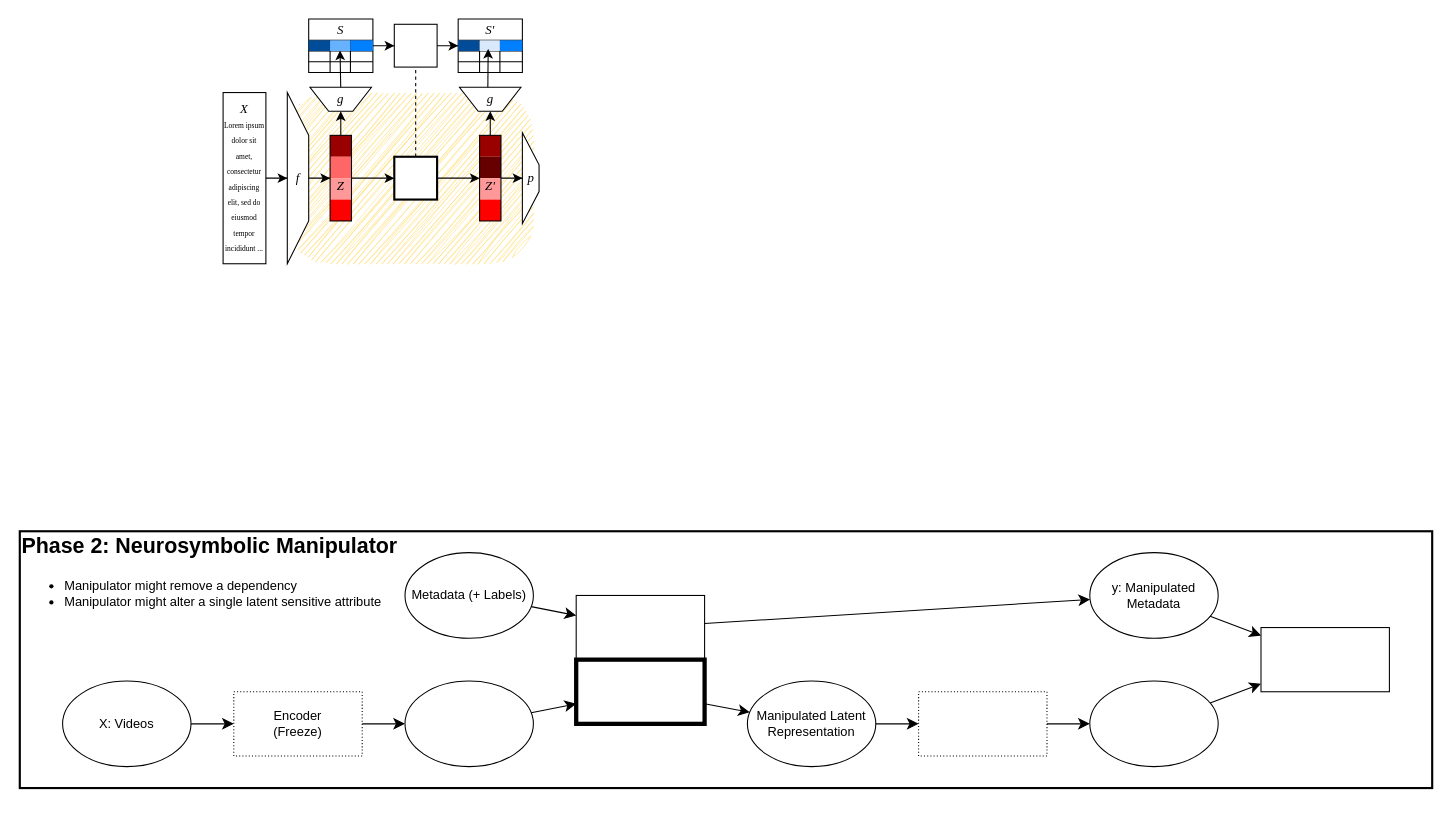
The diagram is 1451 pixels wide and 825 high, and some of its shapes have lost their labels. The shapes that lost their labels are listed below. From the top down, each one's centre as x and y in pixels, then its label:
(x=415, y=45): h S
(x=415, y=177): h Z
(x=640, y=627): Symbolic Manipulator
(x=1324, y=659): Loss
(x=640, y=691): Neural Manipulator
(x=468, y=723): Latent Representation
(x=982, y=723): Semantic Decoder (Freeze)
(x=1153, y=723): ŷ: Decoded Manipulated Metadata
